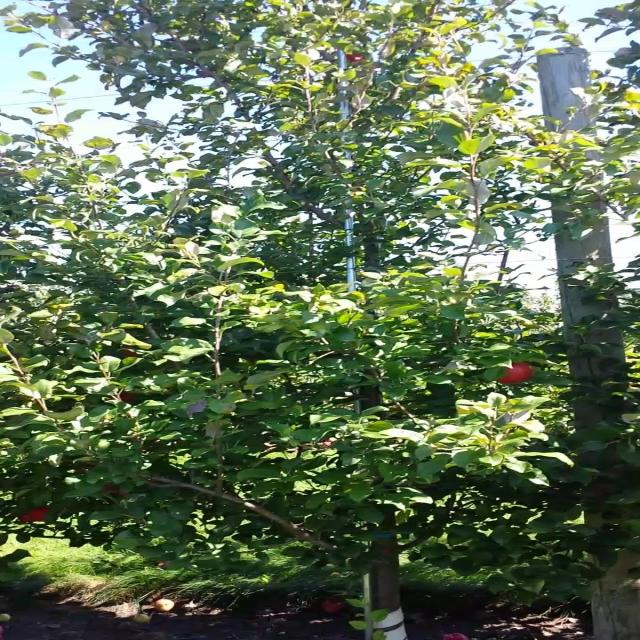apple: (498, 362, 533, 384), (18, 506, 49, 522), (102, 482, 129, 497), (118, 391, 138, 402), (318, 438, 338, 447), (120, 349, 142, 357), (120, 349, 142, 357), (344, 54, 364, 62)
